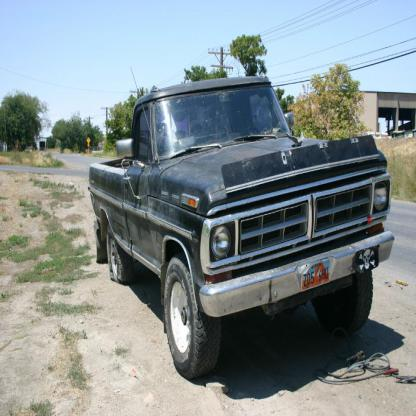Truck: (88, 71, 394, 380)
